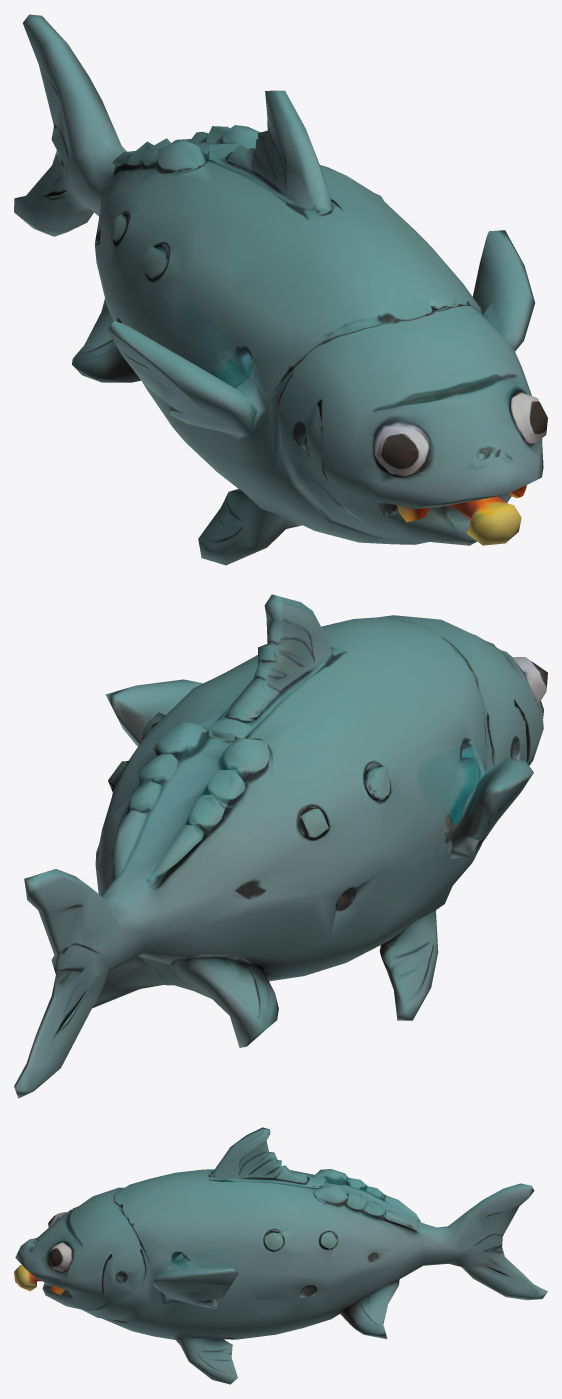
File: TripoModel.glb
3 renders of one model, top to bottom at view 1: azimuth 30°, elevation 25°; view 2: azimuth 150°, elevation 25°; view 3: azimuth 270°, elevation 25°, orthographic. The views are drawn at different scales.
Parts seen in each view (by area): view 1: tripo_node_9fbf49fb-e36f-4b42-947c-d8f78dbc3958; view 2: tripo_node_9fbf49fb-e36f-4b42-947c-d8f78dbc3958; view 3: tripo_node_9fbf49fb-e36f-4b42-947c-d8f78dbc3958.
Boxes of the visible parts, x1,y1,x2,y2 form: tripo_node_9fbf49fb-e36f-4b42-947c-d8f78dbc3958: [14, 14, 547, 565]; tripo_node_9fbf49fb-e36f-4b42-947c-d8f78dbc3958: [14, 594, 547, 1098]; tripo_node_9fbf49fb-e36f-4b42-947c-d8f78dbc3958: [14, 1127, 547, 1384].
Size of the model in its own units: 0.4697 by 0.4749 by 1.
Materials: 1 (1 with a texture image).
